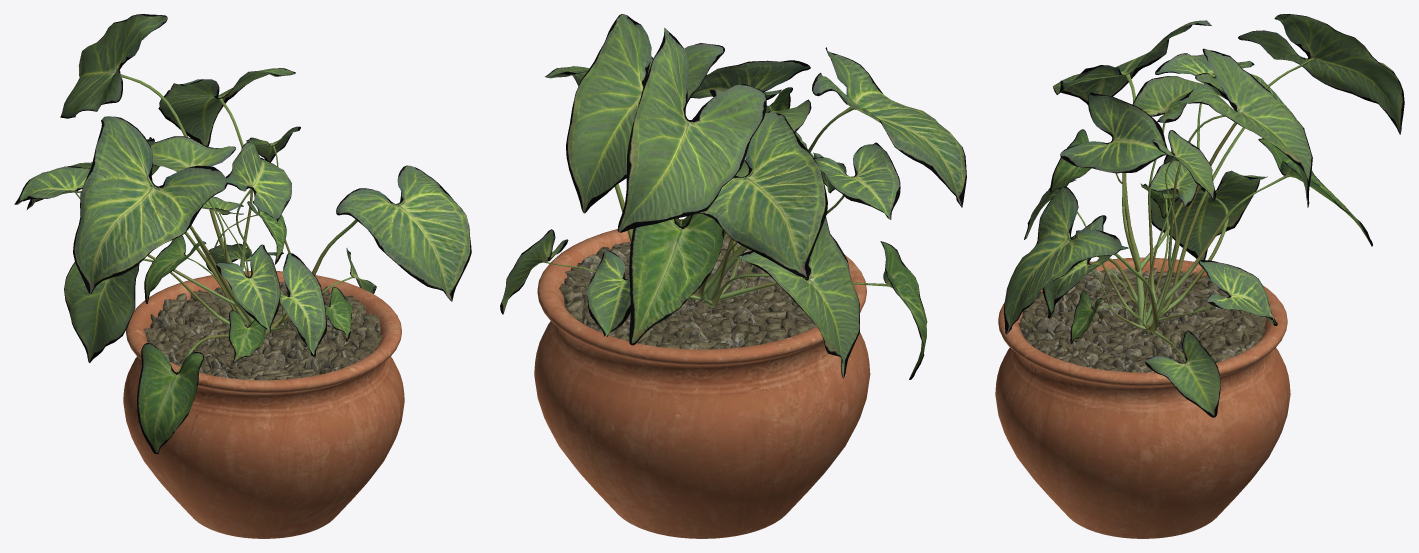
The model's file is potted_plant_02.glb.
3 renders of one model, left to right at view 1: azimuth 30°, elevation 25°; view 2: azimuth 150°, elevation 25°; view 3: azimuth 270°, elevation 25°, orthographic. The views are drawn at different scales.
Visible parts, largest first — view 1: potted_plant_02_leaves, potted_plant_02_pot, potted_plant_02_dirt; view 2: potted_plant_02_leaves, potted_plant_02_pot, potted_plant_02_dirt; view 3: potted_plant_02_leaves, potted_plant_02_pot, potted_plant_02_dirt.
Part boxes in pixels (x1,y1,x2,y2): potted_plant_02_leaves: (14,14,471,454); potted_plant_02_pot: (123,271,404,538); potted_plant_02_dirt: (143,282,383,380); potted_plant_02_leaves: (500,14,966,379); potted_plant_02_pot: (534,219,870,538); potted_plant_02_dirt: (559,234,816,349); potted_plant_02_leaves: (1004,14,1404,417); potted_plant_02_pot: (995,257,1290,538); potted_plant_02_dirt: (1018,267,1266,372).
Size of the model in its own units: 0.7012 by 0.8412 by 0.6574.
2 materials, 2 textured.
